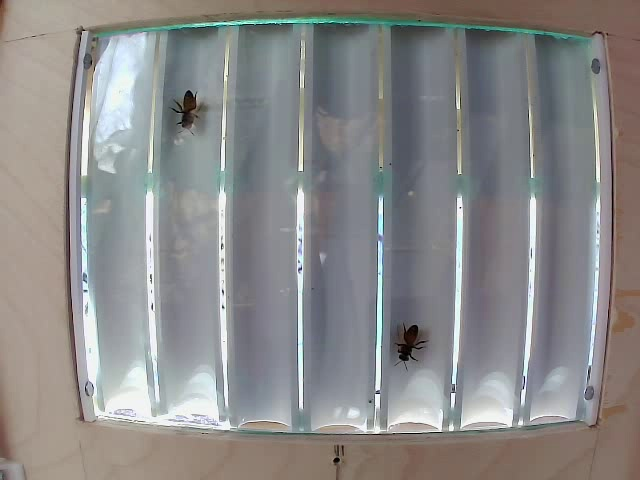bee: (385, 319, 432, 372), (166, 87, 206, 131)
